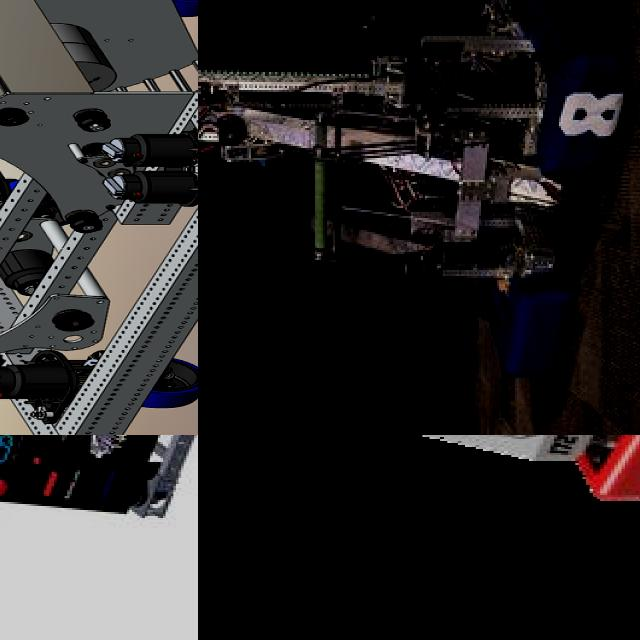FRC-Robots: (198, 0, 640, 335), (0, 0, 198, 435), (198, 435, 640, 546), (0, 435, 198, 548)
